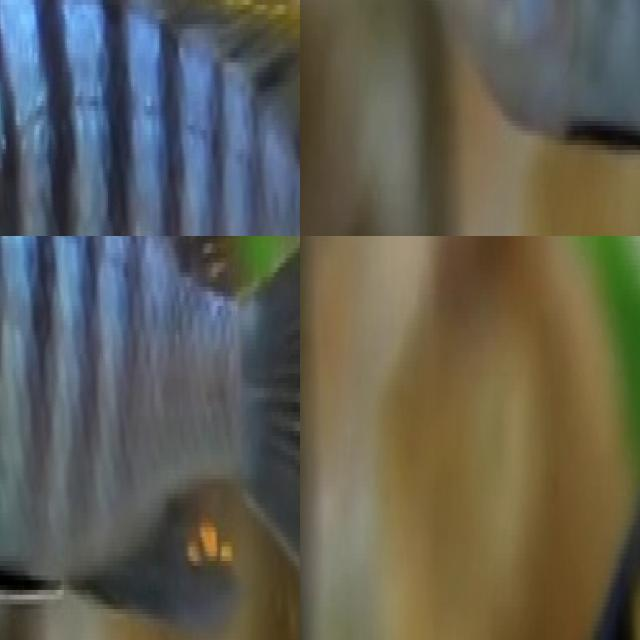fish: (0, 236, 300, 640), (300, 0, 640, 217), (0, 0, 300, 236)
